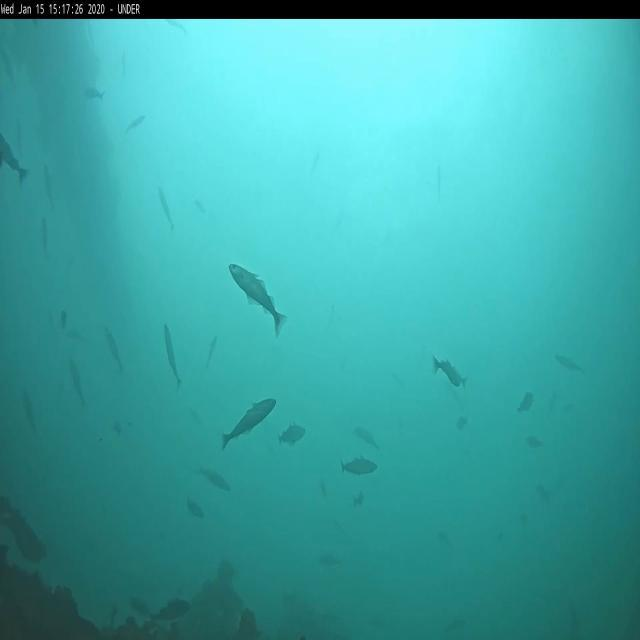fish: (230, 266, 288, 334), (221, 399, 276, 451), (0, 138, 29, 186), (148, 598, 190, 628), (162, 324, 180, 386), (23, 392, 42, 442), (431, 354, 462, 384), (352, 425, 382, 450), (158, 190, 175, 234), (341, 459, 379, 477), (71, 360, 88, 400), (200, 470, 230, 492), (106, 329, 122, 370), (0, 47, 16, 87), (554, 353, 583, 373), (278, 426, 306, 446), (44, 167, 55, 210), (186, 500, 207, 521), (452, 366, 470, 390), (205, 336, 217, 370), (518, 390, 534, 415), (42, 216, 51, 256), (125, 116, 146, 132), (166, 21, 190, 34), (85, 87, 104, 103), (526, 434, 544, 450), (17, 126, 25, 156), (68, 331, 86, 344), (193, 198, 204, 212), (355, 488, 363, 506), (310, 154, 318, 172), (320, 554, 336, 562), (121, 52, 126, 74), (456, 417, 466, 427)
